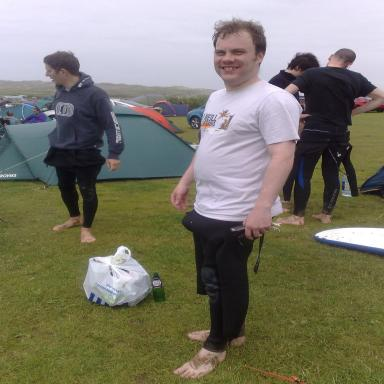plasticbag: (81, 244, 154, 306)
